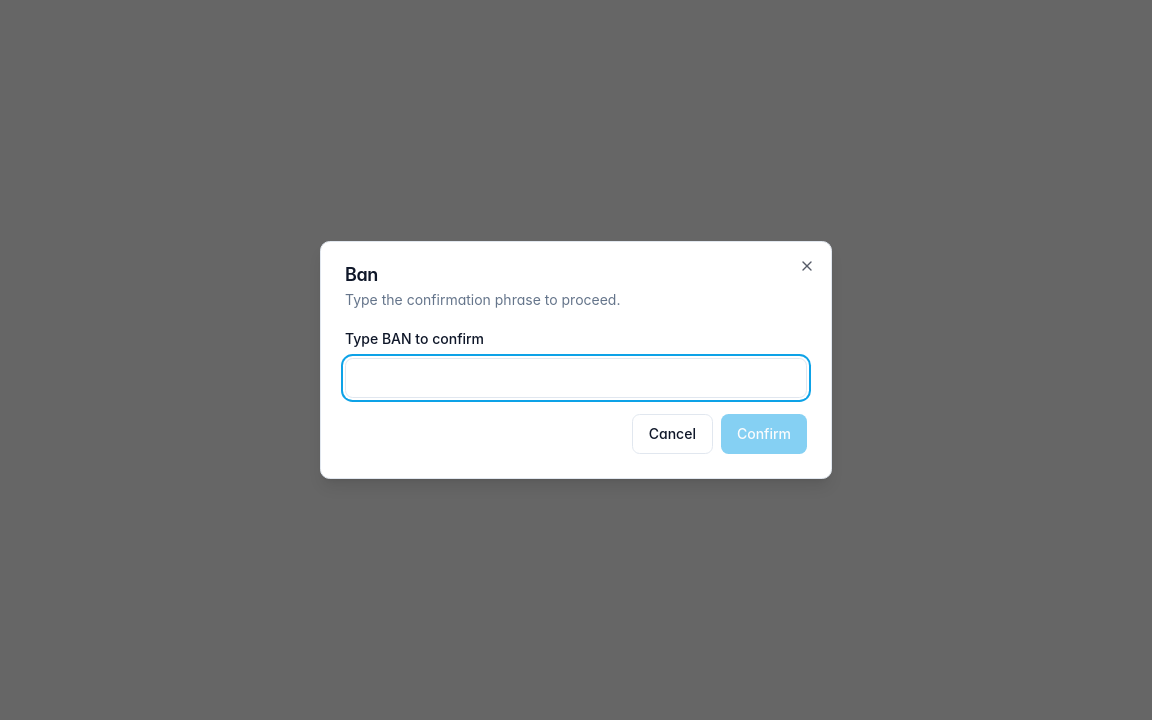
Scenario: ConfirmDialog › keeps confirm disabled until typed value matches
The width and height of the screenshot is (1152, 720).
Later steps or results of the test are not shown.
Check: the button "Confirm" is disabled, box left=721, top=414, right=807, bottom=454
Type "BAN" into the field.
click(576, 378); type("BAN")  # box left=345, top=358, right=807, bottom=398
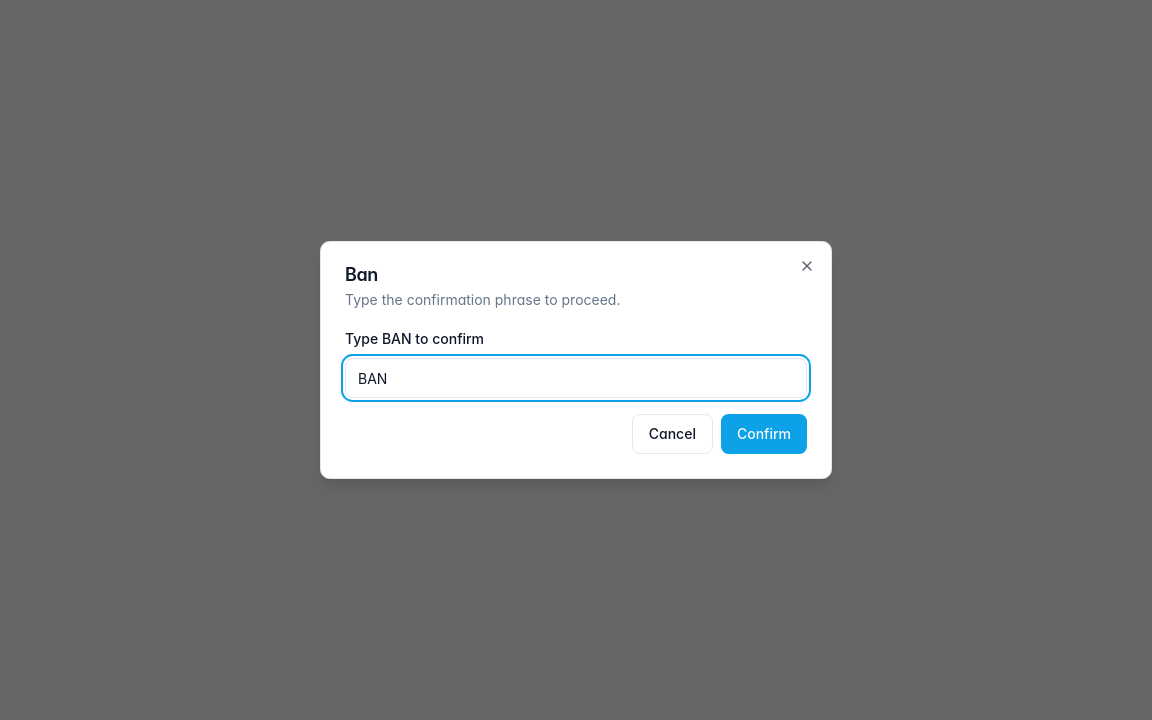
Check: the button "Confirm" is enabled, box left=721, top=414, right=807, bottom=454
